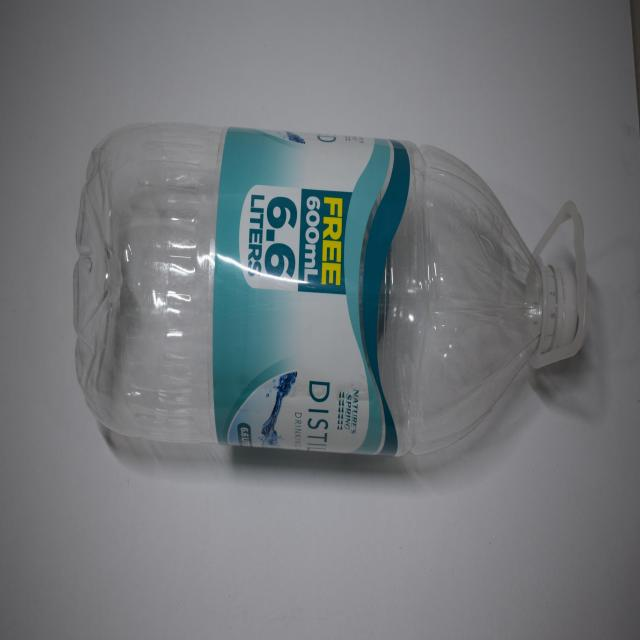plastic: (70, 119, 592, 474)
